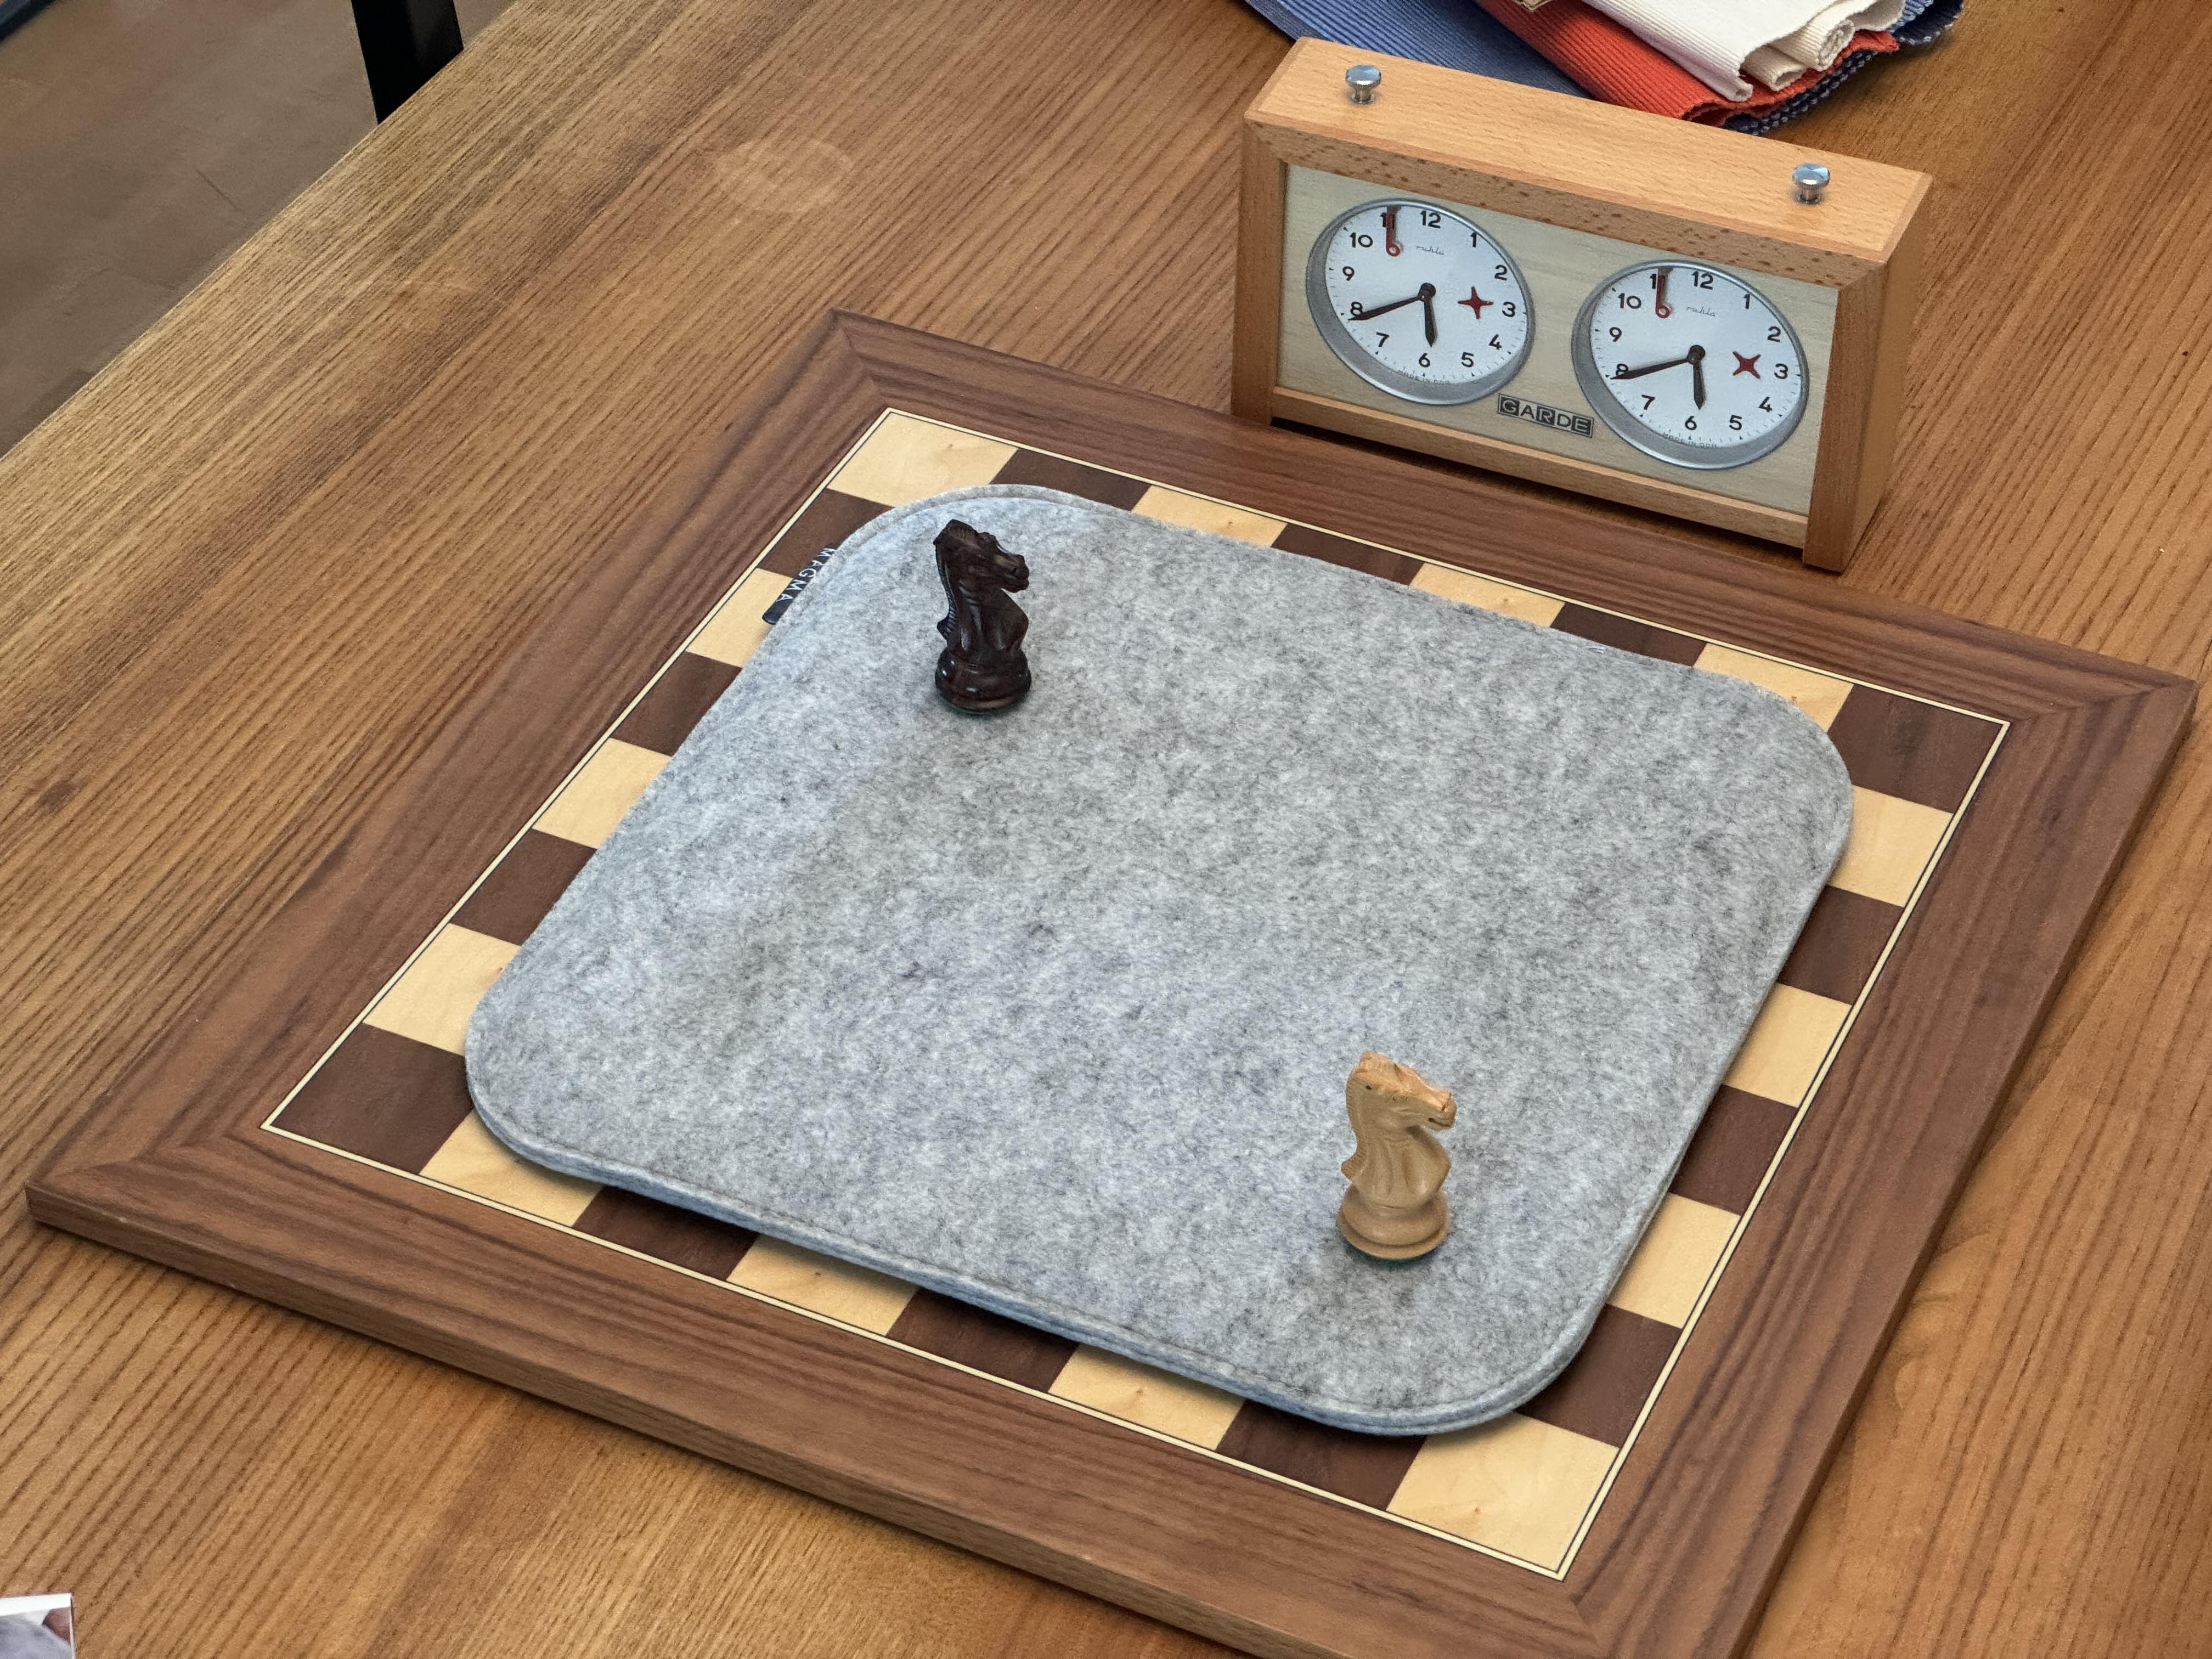Black Knight: (927, 518, 1036, 720)
White Knight: (1329, 1044, 1461, 1270)
